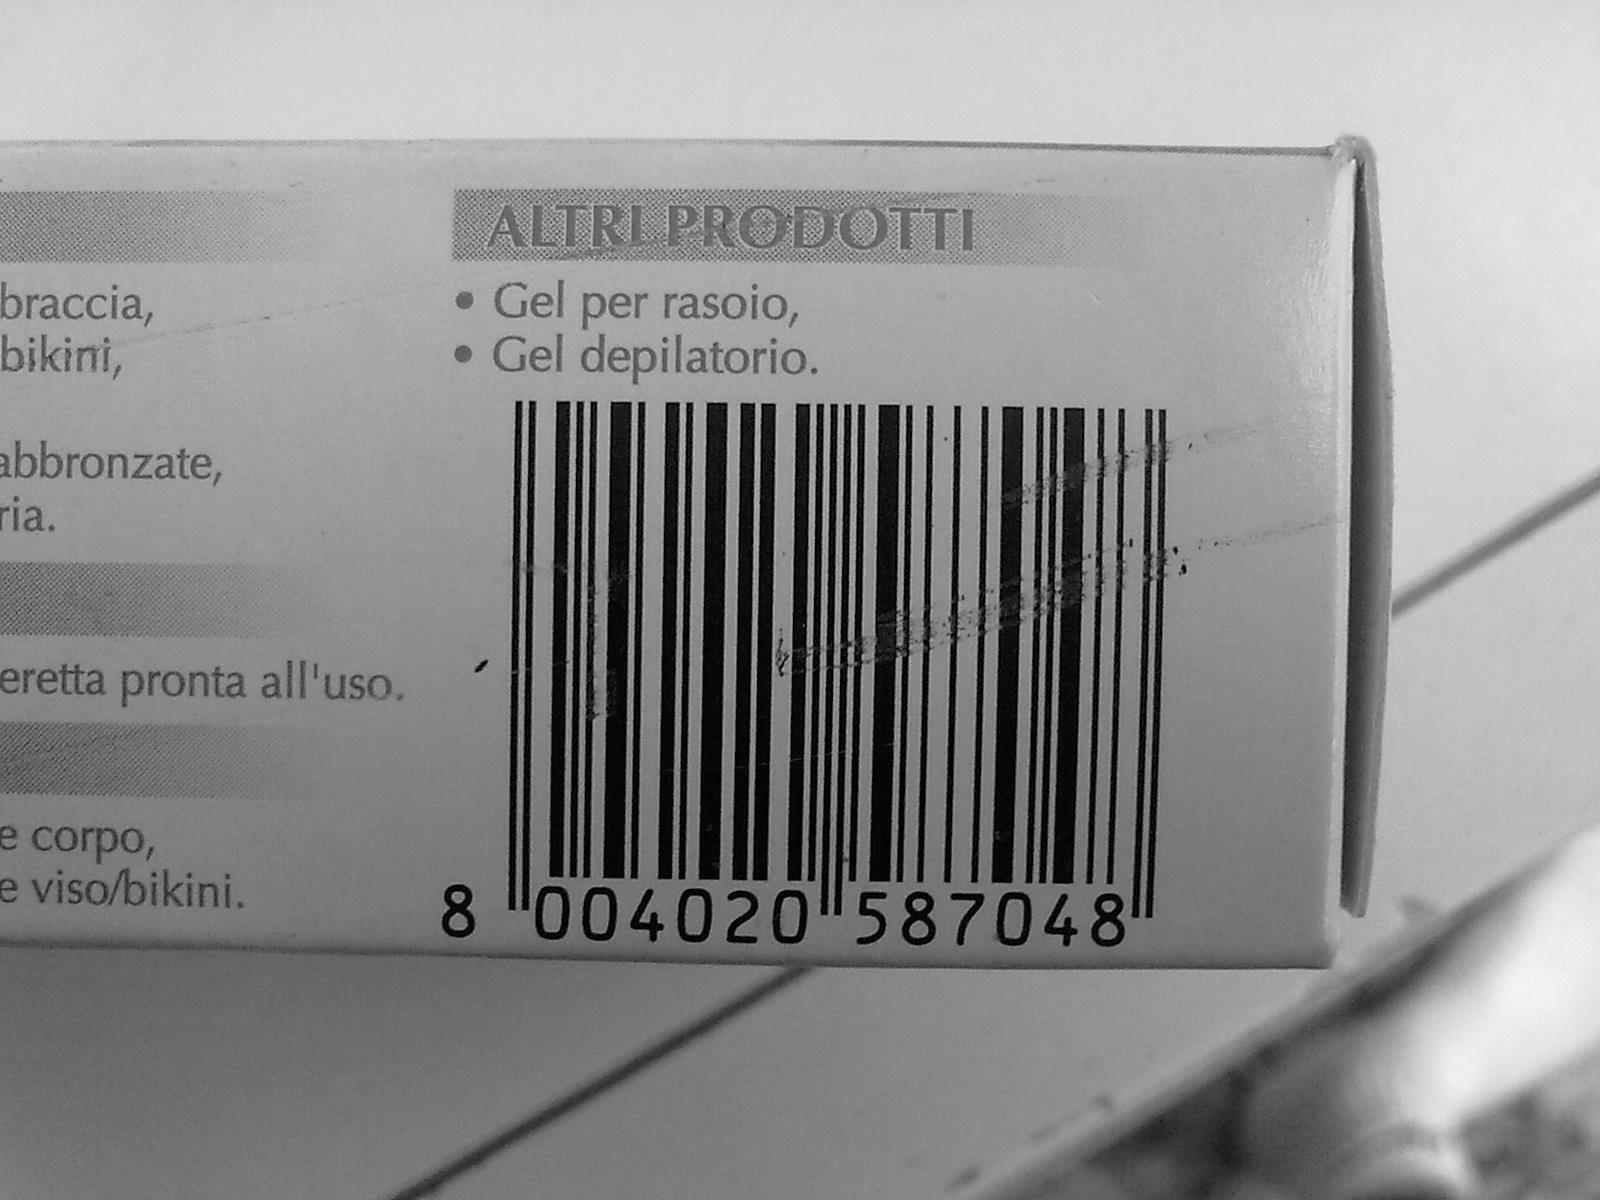Barcode: (488, 398, 1189, 900)
